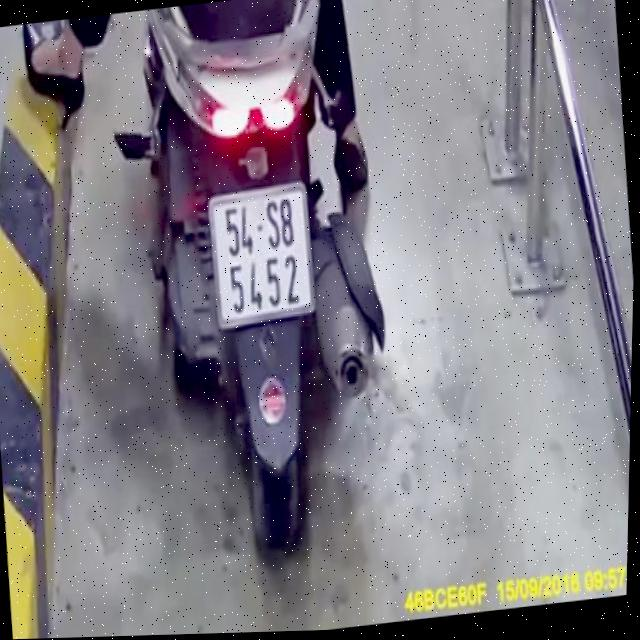motorcycle: (101, 0, 425, 594)
plate: (199, 173, 326, 336)
